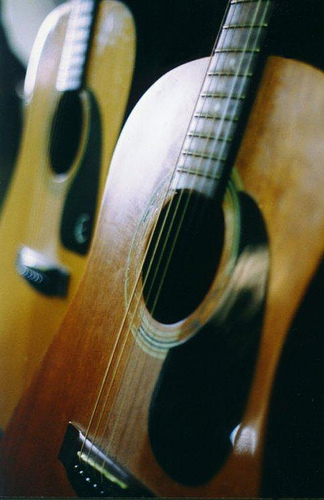guitar: (21, 1, 321, 500)
